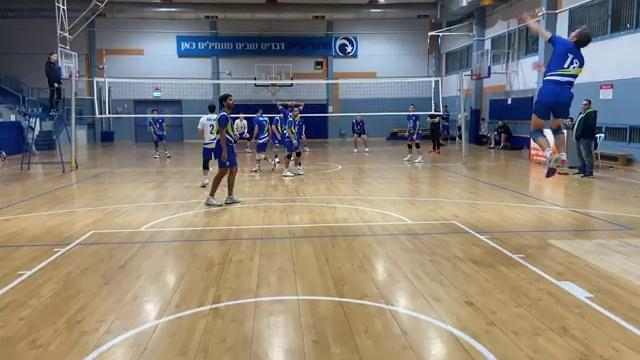ball: (476, 0, 495, 11)
